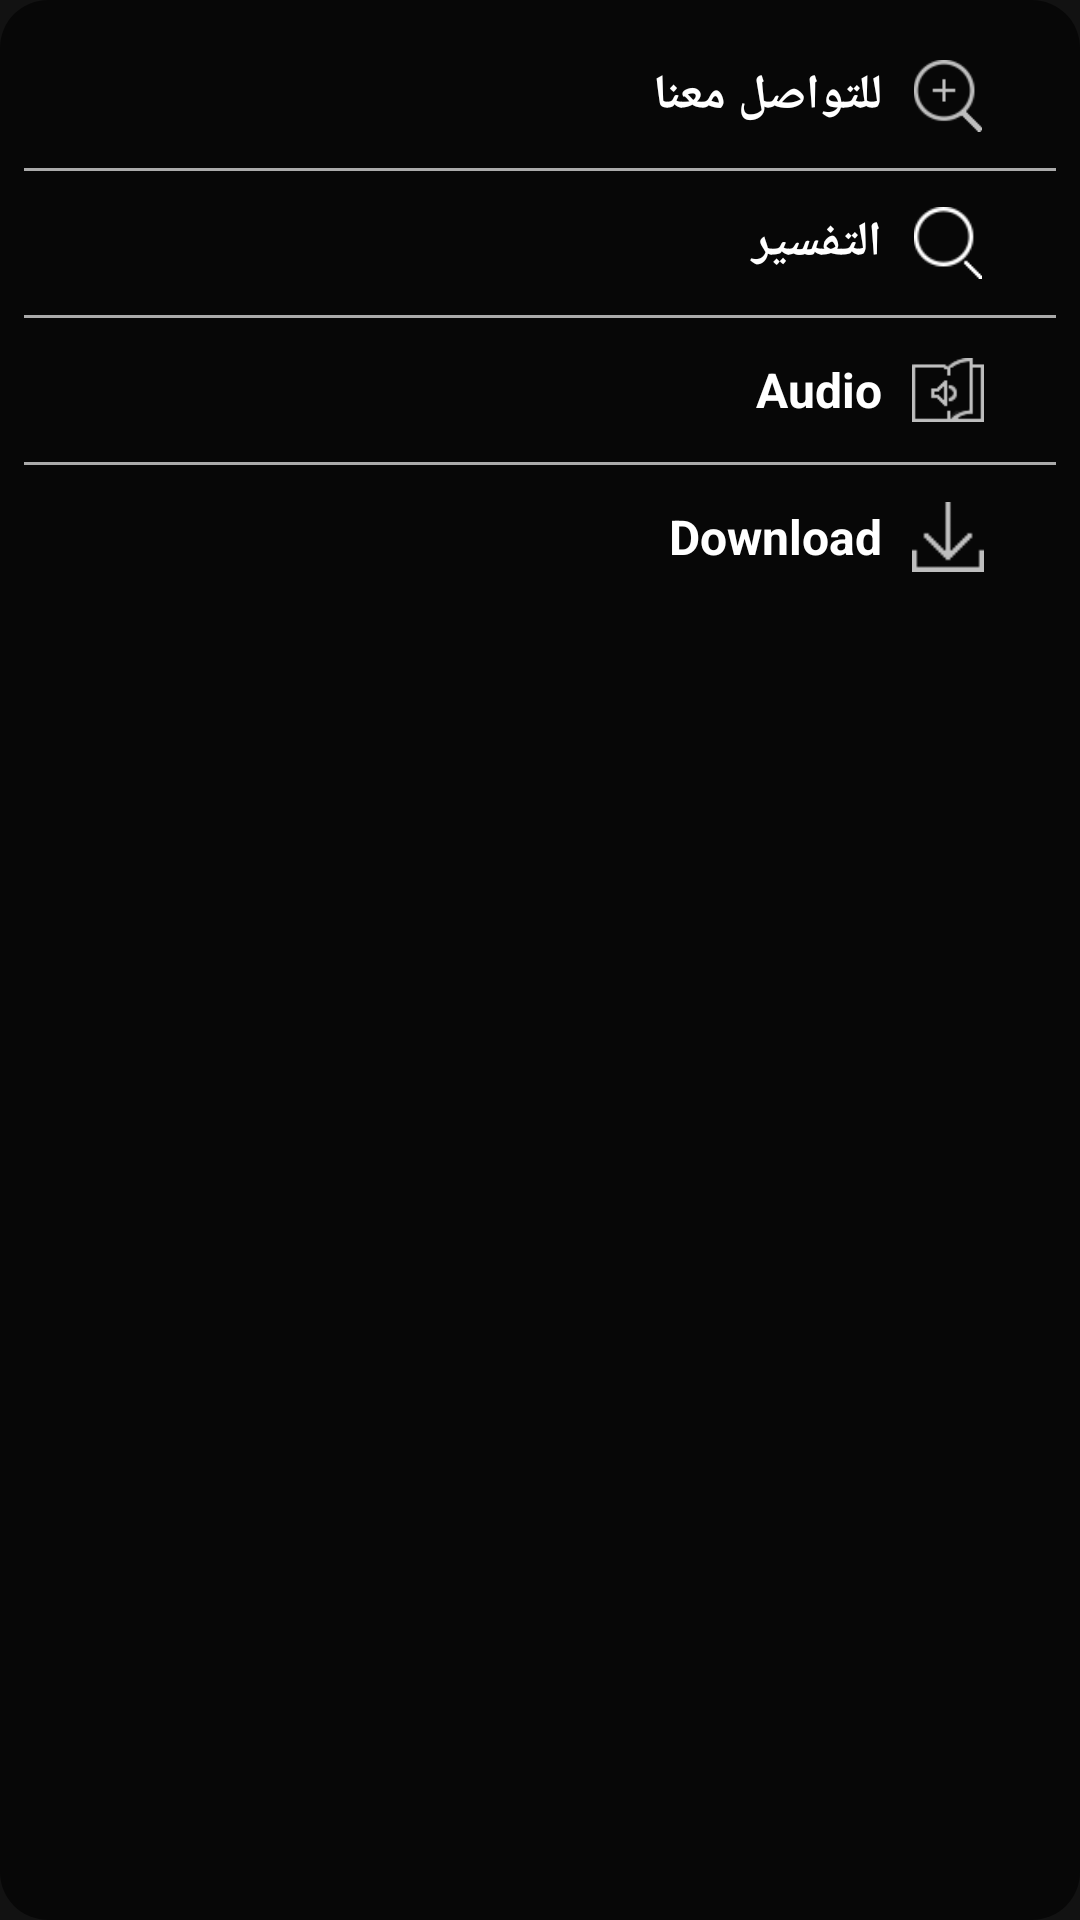

Screen size 1080×1920. Icon name, then its box in pixels as Rect(x1, y1, x2, y2):
recherche: Rect(914, 207, 982, 279)
zoom: Rect(914, 60, 982, 132)
